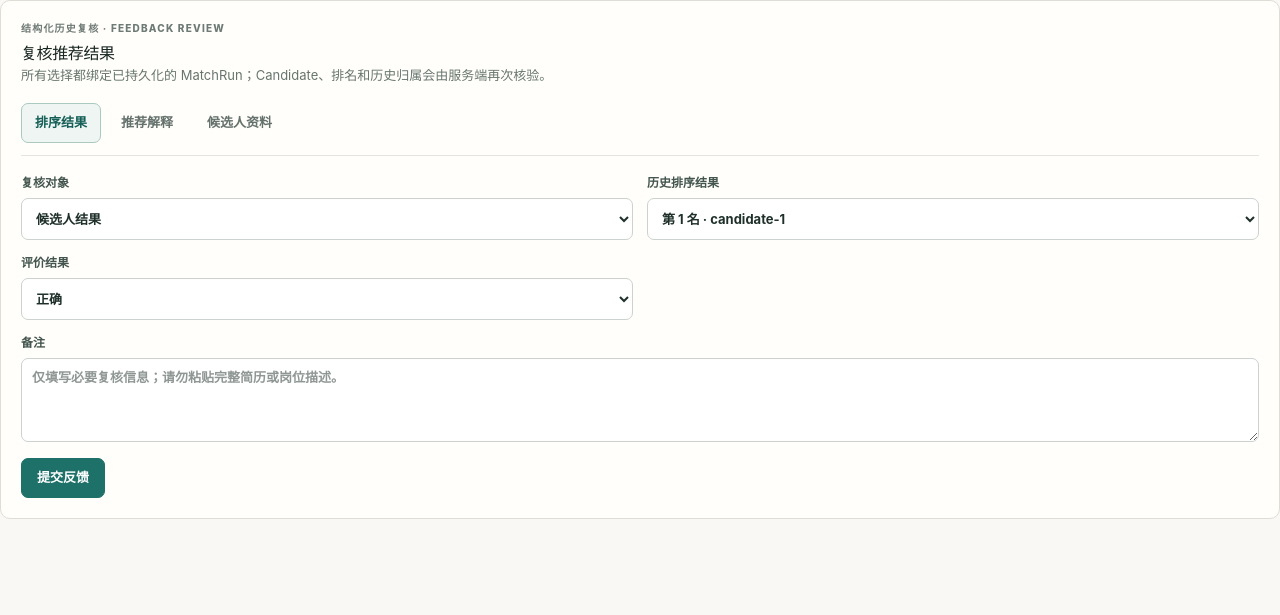
Test: FeedbackPanel › does not expose the persisted feedback identifier as reviewer-facing content
Click the button "提交反馈" at (63, 478), box [21,458,105,498]
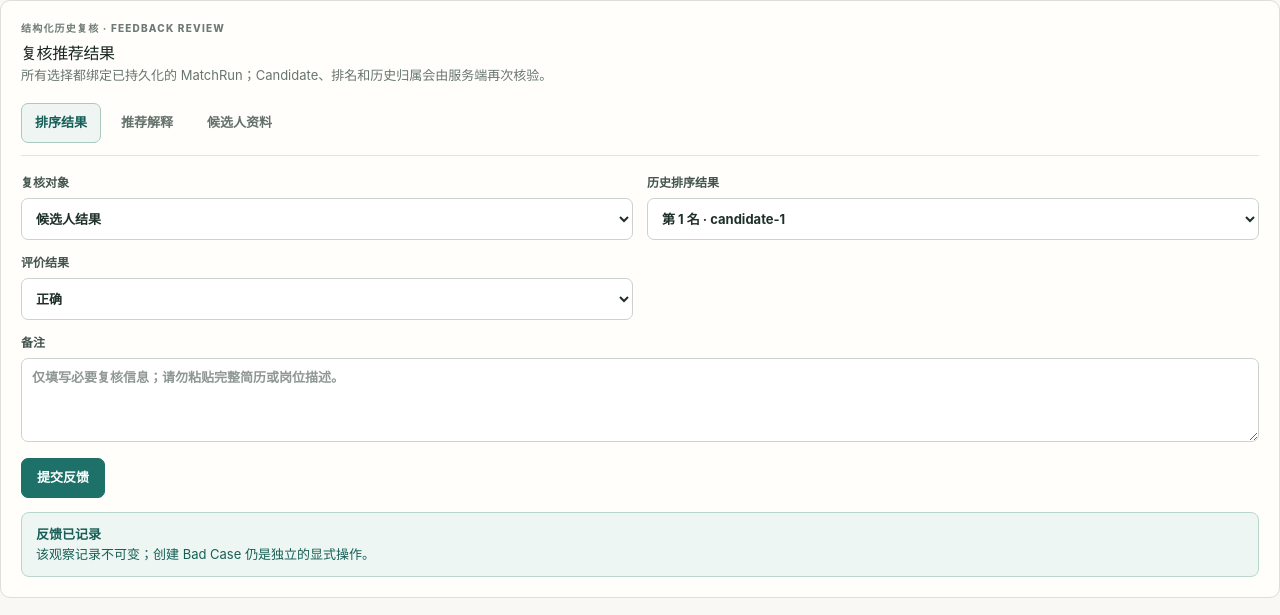
expect the text "反馈已记录" is shown: met, box [36,526,101,542]
